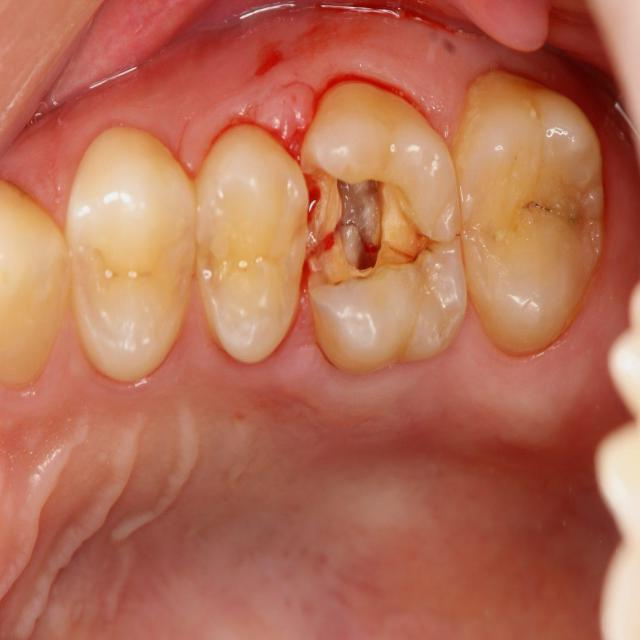caries: (300, 77, 462, 370)
